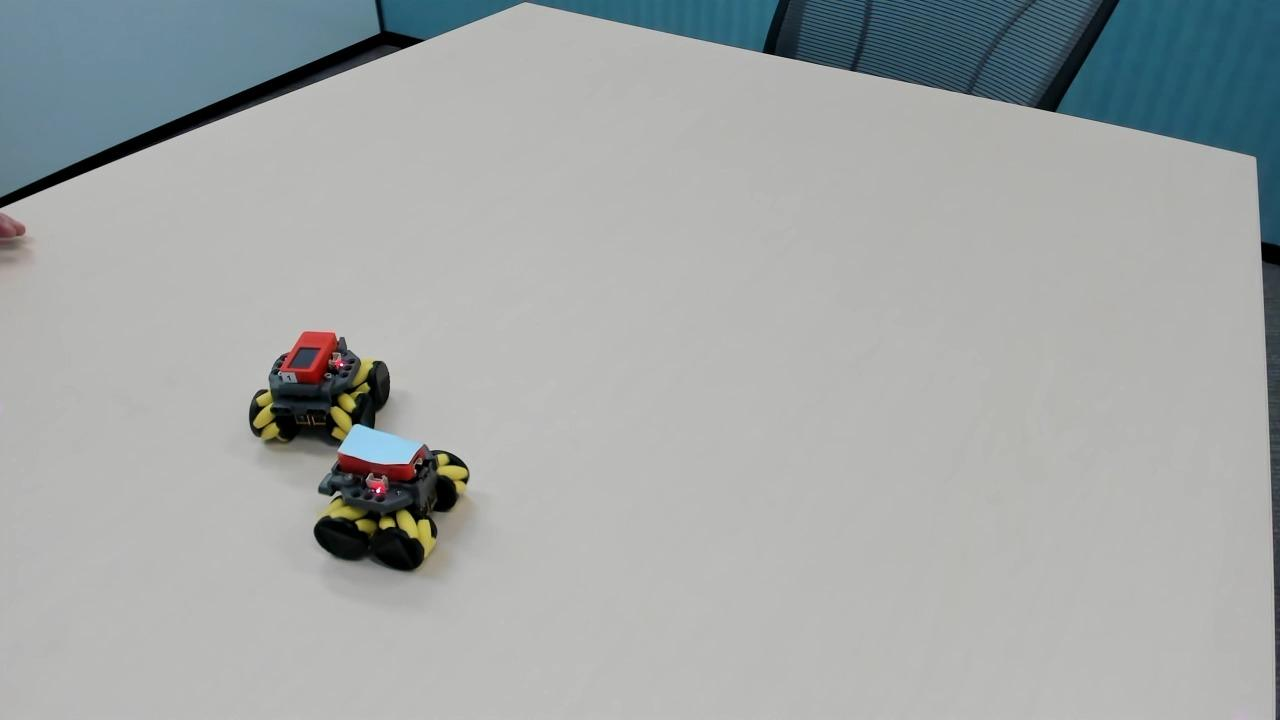B-Robot: (305, 420, 474, 584)
R-Robot: (234, 320, 381, 434)
